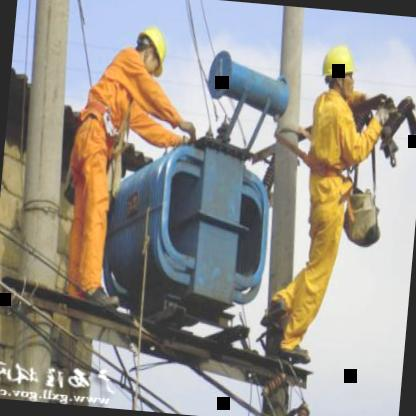helmet: (316, 37, 362, 105), (132, 20, 173, 82)
